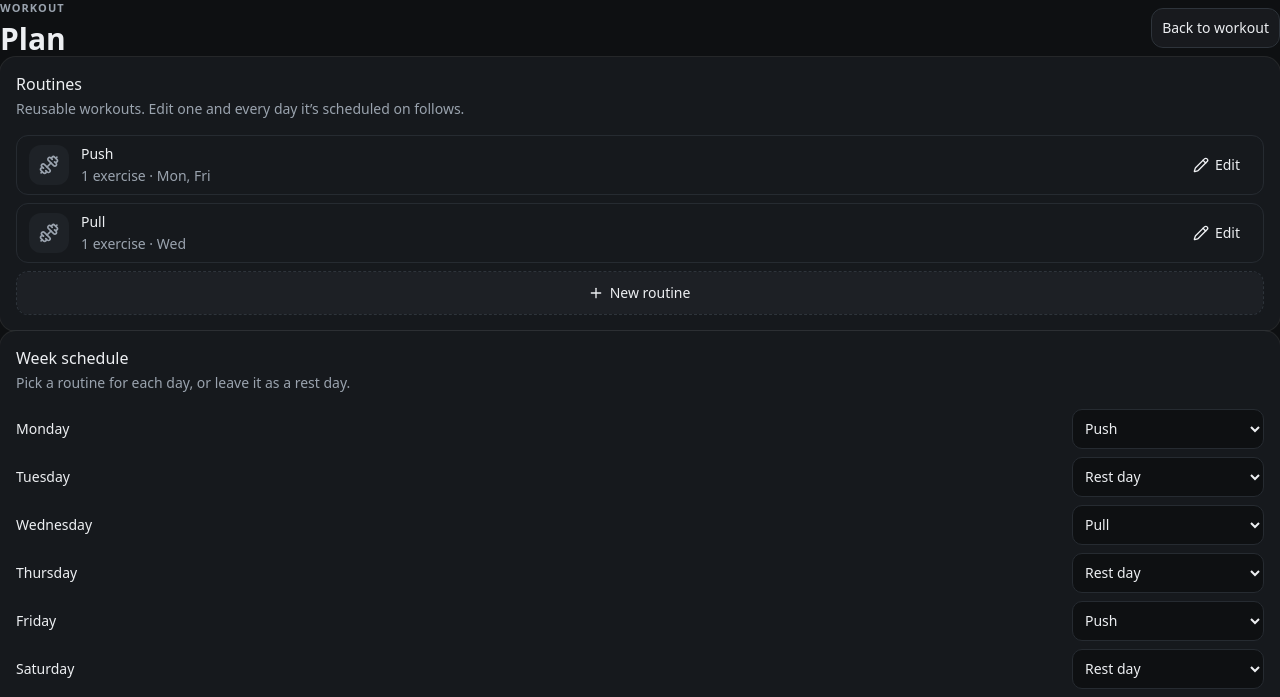
Test: WorkoutPlanPage › edits a routine and returns to the lists
Click the button with aria-label "Edit Push".
click(1217, 164)  # box left=1184, top=144, right=1251, bottom=184
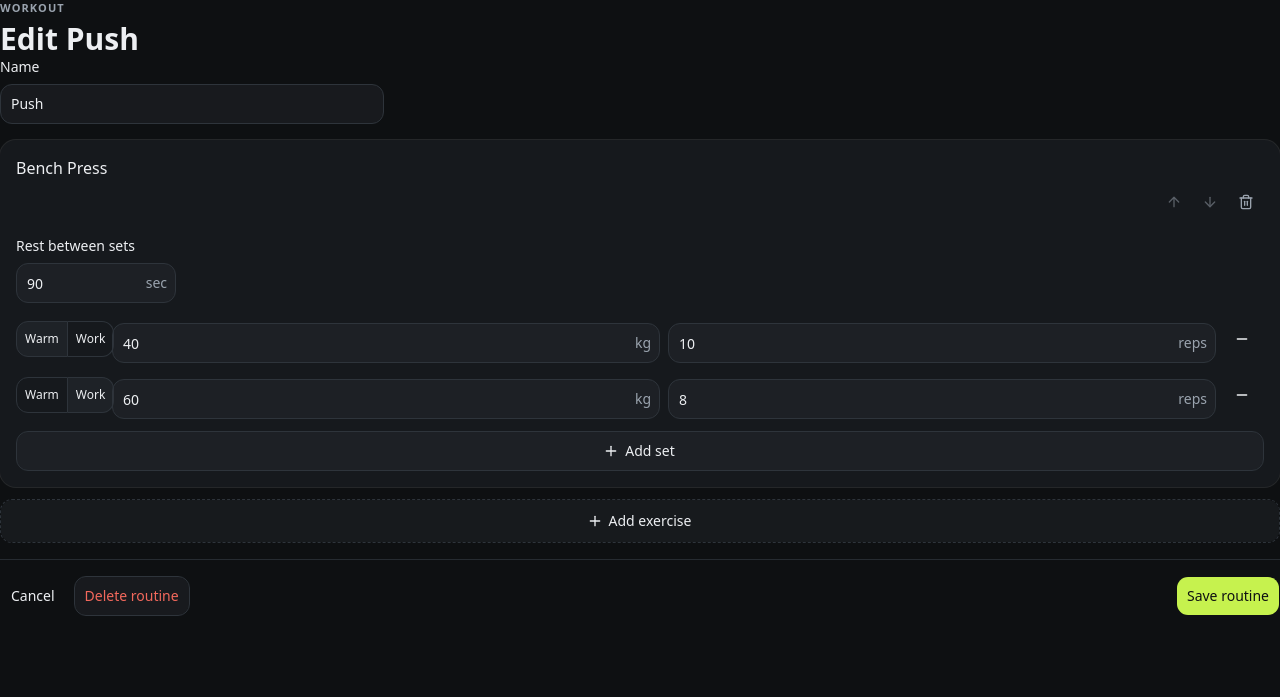
Replace the text in the field labelled "Name" with "Push A" at (192, 104), box left=1, top=88, right=383, bottom=120
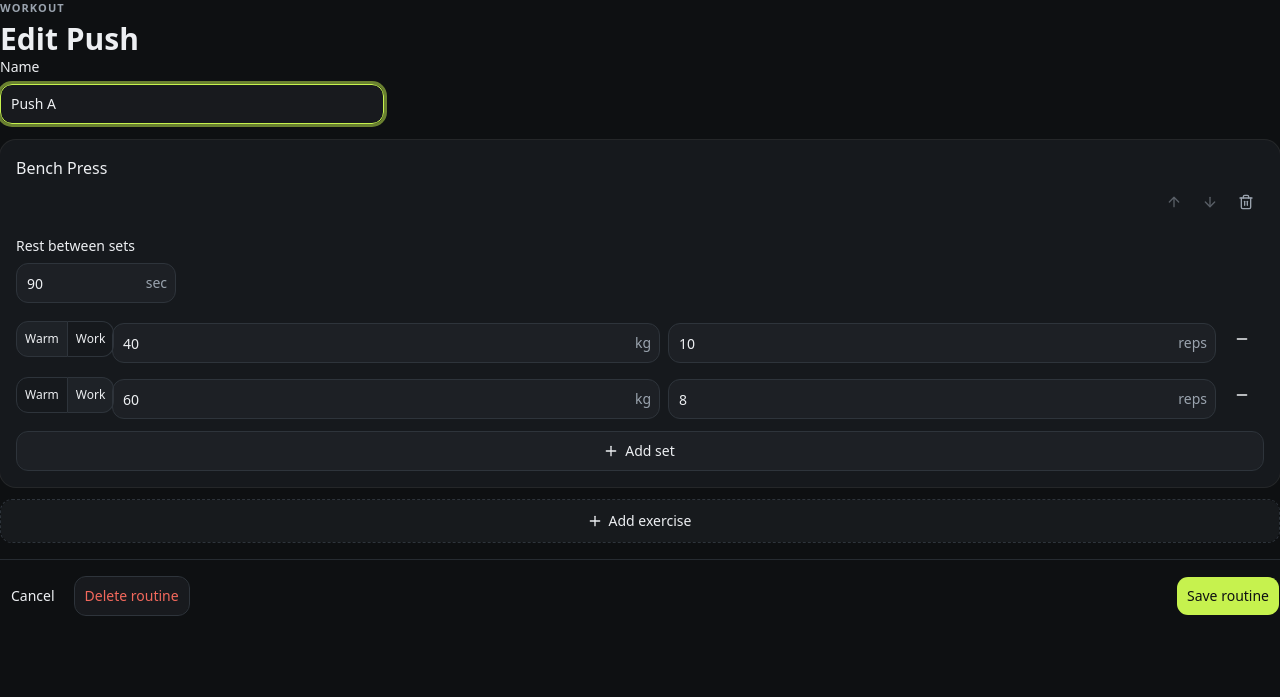
Click the button "Save routine".
click(1228, 596)  # box left=1176, top=576, right=1279, bottom=616
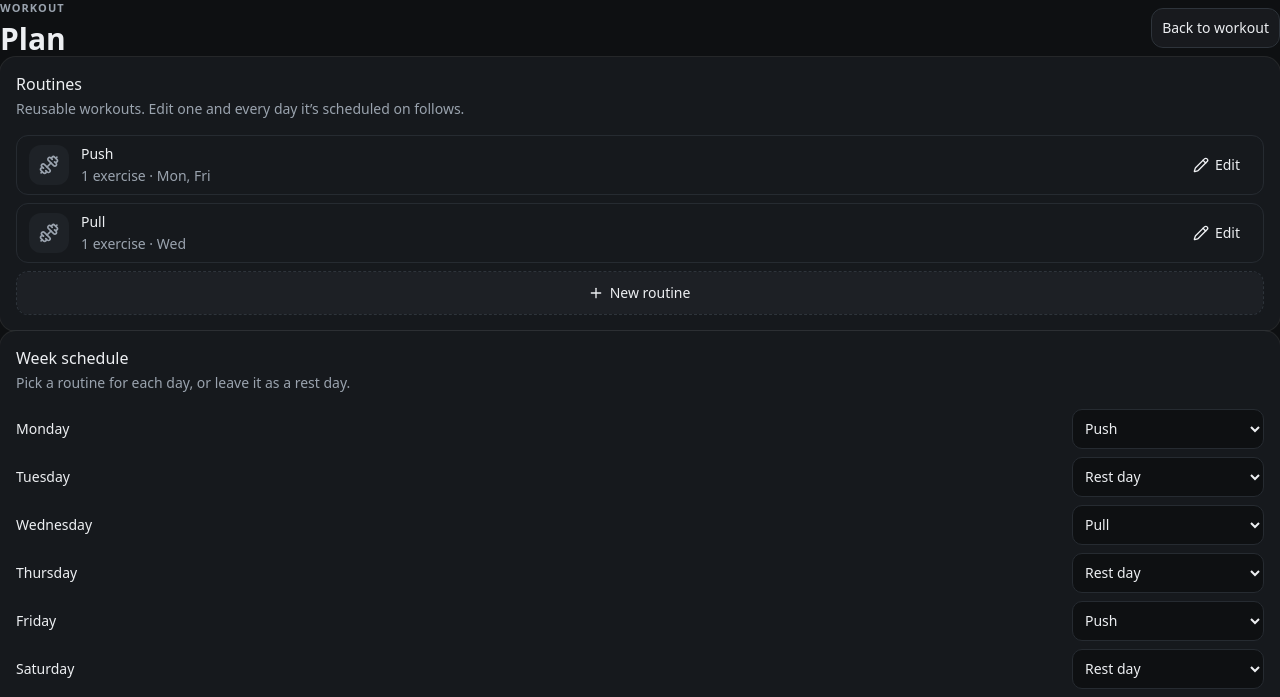
Expected: the text "Week schedule" is shown, left=16, top=346, right=128, bottom=368
